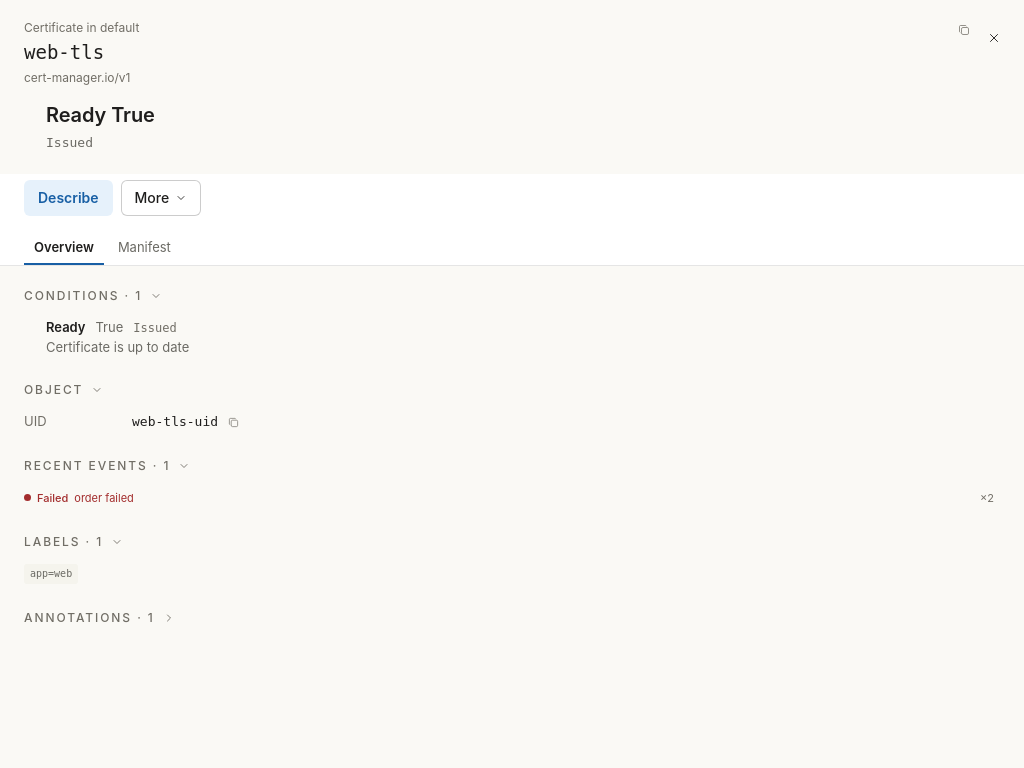
Test: InstanceDetail › describe button opens the read-only describe pane via the bridge
This screenshot has width=1024, height=768.
Click the button "Describe": (68, 198) [24,180,113,216]
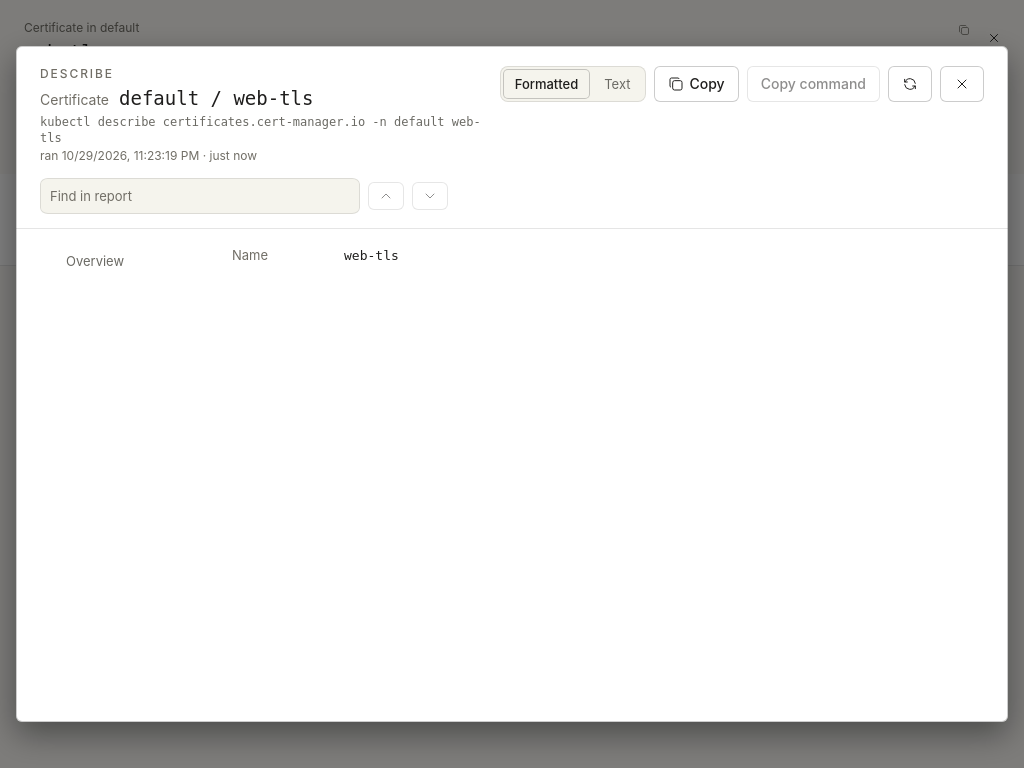
Check: the element with test id "describe-formatted" shows "web-tls", box [344,248,399,263]
Press Escape in the dialog
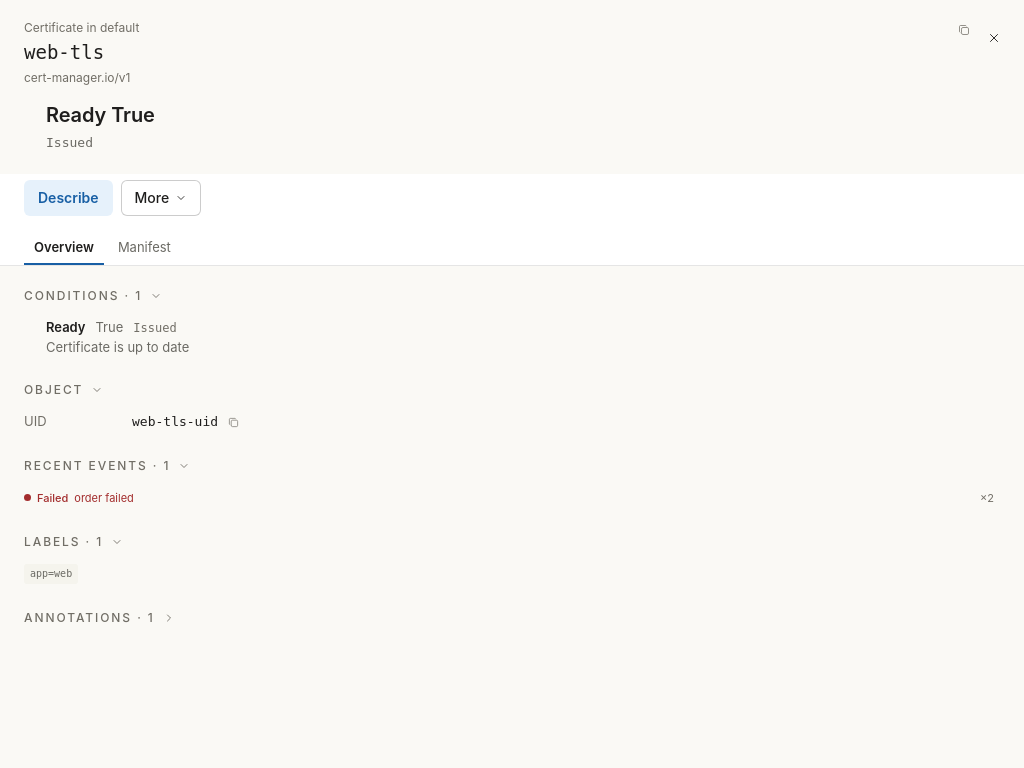
Check: the dialog is gone
